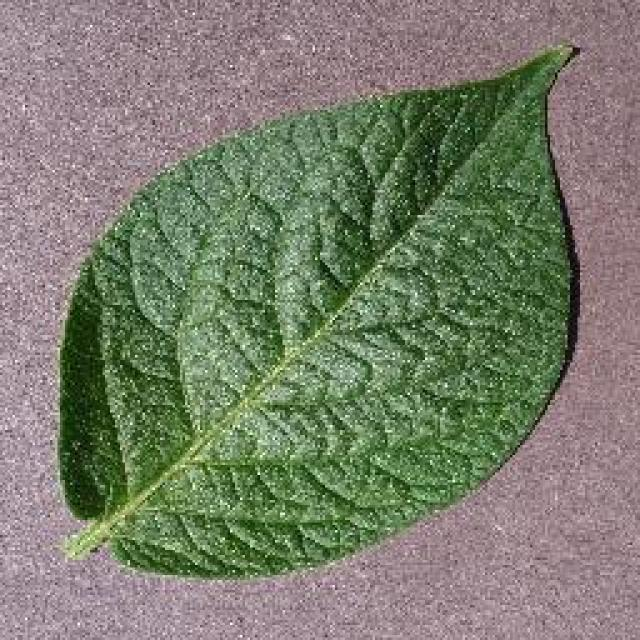Potato: (52, 38, 582, 580)
